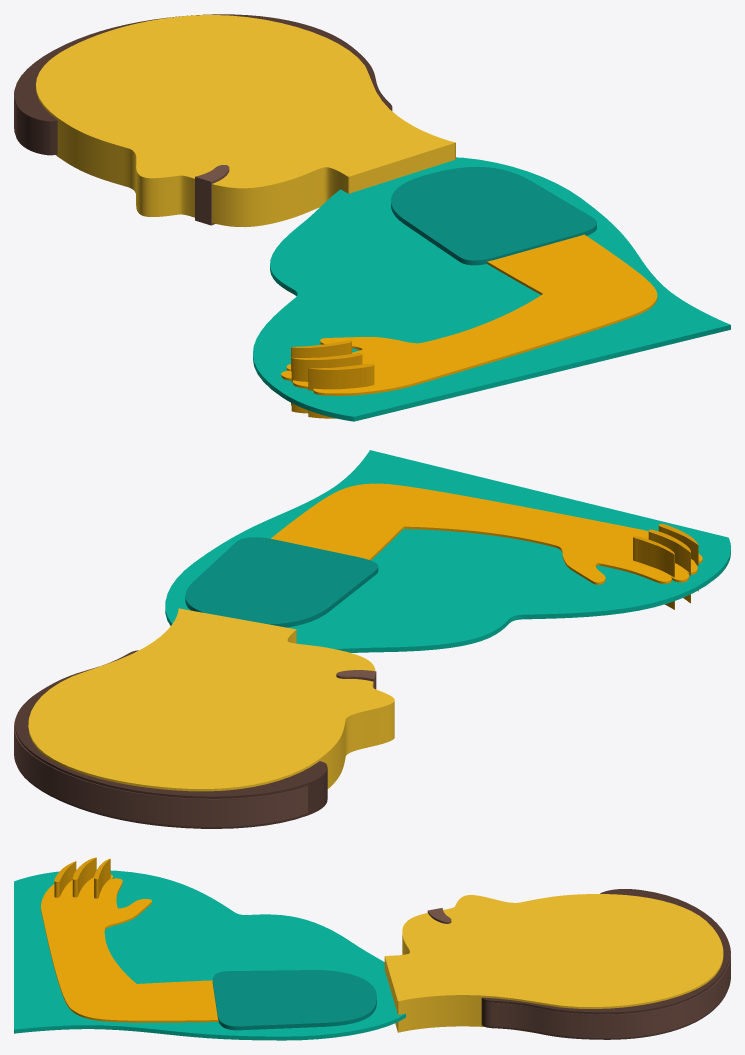
File: emoji_u1fac3.glb
The picture shows the model from 3 angles, top to bottom: view 1: azimuth 30°, elevation 25°; view 2: azimuth 150°, elevation 25°; view 3: azimuth 270°, elevation 25°; orthographic projection. The views are drawn at different scales.
Visible parts, largest first — view 1: emoji_u1fac3; view 2: emoji_u1fac3; view 3: emoji_u1fac3.
Part boxes in pixels (left/top/right/bottom): emoji_u1fac3: left=14, top=14, right=730, bottom=421; emoji_u1fac3: left=14, top=450, right=730, bottom=828; emoji_u1fac3: left=14, top=857, right=730, bottom=1040.
Bounding box in the file's own units: 0.0182 × 0.0024 × 0.0332.
